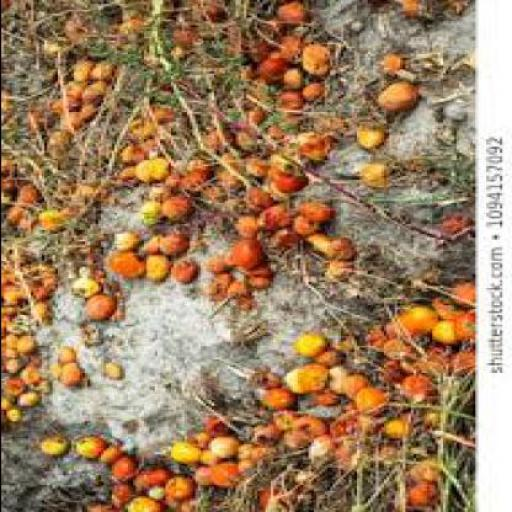biodegradable: (56, 16, 105, 52), (159, 162, 205, 197), (369, 81, 415, 112), (265, 156, 299, 197), (394, 308, 436, 340), (399, 456, 442, 487), (291, 136, 332, 168), (280, 367, 323, 396), (396, 376, 434, 408), (256, 203, 290, 238), (224, 240, 261, 272), (189, 2, 223, 34), (210, 156, 237, 196), (81, 295, 116, 325), (412, 348, 447, 378), (51, 107, 94, 131), (194, 131, 232, 158), (302, 436, 332, 470), (351, 388, 385, 418), (399, 482, 434, 511), (252, 490, 300, 511), (270, 2, 304, 31), (240, 373, 281, 397), (164, 23, 192, 58), (294, 45, 323, 77), (250, 58, 280, 88), (289, 418, 323, 444), (378, 417, 412, 443), (326, 442, 353, 474), (218, 199, 256, 221), (226, 244, 258, 270), (340, 369, 366, 401), (444, 348, 469, 381), (356, 163, 390, 187), (33, 212, 67, 236), (289, 337, 323, 361), (323, 411, 350, 441), (254, 17, 280, 48), (162, 477, 191, 504), (70, 440, 105, 462), (351, 126, 383, 150), (113, 19, 145, 43), (135, 159, 167, 183), (240, 188, 272, 212), (291, 469, 323, 493), (418, 408, 445, 436), (76, 82, 105, 108), (38, 134, 67, 160), (426, 301, 460, 323), (38, 37, 62, 68), (156, 201, 188, 224), (103, 257, 135, 280), (275, 37, 302, 64), (197, 276, 226, 301), (326, 369, 351, 398), (240, 39, 270, 63), (138, 2, 170, 24), (143, 104, 175, 126), (296, 204, 328, 226), (64, 278, 96, 300), (30, 438, 62, 460), (106, 483, 132, 510), (444, 284, 472, 309), (154, 237, 183, 261), (237, 396, 261, 425), (105, 232, 135, 255), (264, 412, 294, 435), (388, 2, 428, 19), (308, 119, 342, 139), (1, 312, 27, 338), (2, 209, 30, 233), (205, 439, 234, 462), (264, 230, 294, 252), (137, 467, 167, 489), (450, 312, 472, 342), (380, 342, 410, 364), (137, 258, 162, 284), (323, 239, 350, 263), (108, 456, 132, 483), (248, 425, 275, 449), (256, 392, 288, 412), (164, 446, 196, 466), (372, 54, 398, 78), (116, 146, 142, 170), (360, 328, 382, 356), (272, 435, 304, 454), (16, 113, 41, 137), (239, 157, 264, 181), (231, 217, 256, 241), (164, 261, 189, 285), (8, 186, 33, 210), (207, 465, 232, 489), (426, 323, 450, 348), (377, 361, 402, 385), (270, 95, 296, 118), (56, 85, 78, 112), (288, 216, 315, 238), (278, 69, 302, 93), (194, 186, 218, 210), (258, 124, 280, 150), (164, 26, 186, 52), (199, 257, 229, 276), (88, 448, 116, 468), (1, 165, 16, 202), (75, 323, 97, 348), (231, 458, 256, 480), (100, 170, 132, 187), (307, 354, 339, 371), (132, 49, 154, 73), (56, 364, 78, 388), (84, 63, 110, 83), (318, 263, 345, 282), (134, 205, 156, 228), (239, 270, 264, 290), (432, 218, 458, 237), (76, 186, 105, 203), (10, 367, 32, 389), (202, 419, 226, 439), (1, 360, 27, 378), (302, 236, 326, 255), (1, 285, 20, 309), (237, 106, 257, 128), (374, 446, 396, 466), (159, 46, 183, 64), (0, 383, 25, 400), (377, 325, 402, 342), (124, 122, 143, 144), (310, 394, 336, 410), (65, 66, 89, 83), (122, 500, 162, 510), (10, 394, 32, 412), (38, 266, 54, 290), (299, 83, 318, 103), (134, 238, 154, 257), (24, 288, 46, 305), (221, 284, 245, 299), (247, 448, 267, 466), (1, 409, 20, 427), (145, 186, 165, 203), (183, 435, 202, 452), (27, 305, 43, 325), (1, 313, 14, 337), (54, 350, 73, 366), (232, 444, 248, 462), (404, 161, 426, 174), (1, 91, 11, 119), (137, 137, 151, 157), (1, 271, 16, 289), (142, 490, 162, 503), (100, 365, 116, 381), (191, 468, 205, 486), (40, 101, 56, 116), (24, 384, 44, 396), (262, 50, 278, 64), (46, 368, 59, 382), (84, 506, 119, 511), (234, 299, 248, 311), (174, 502, 190, 511), (1, 399, 6, 418), (72, 271, 84, 278)
